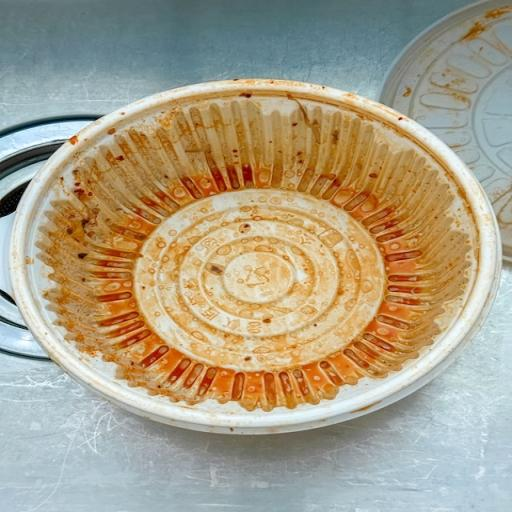plastic: (13, 83, 503, 438), (377, 2, 512, 275)
